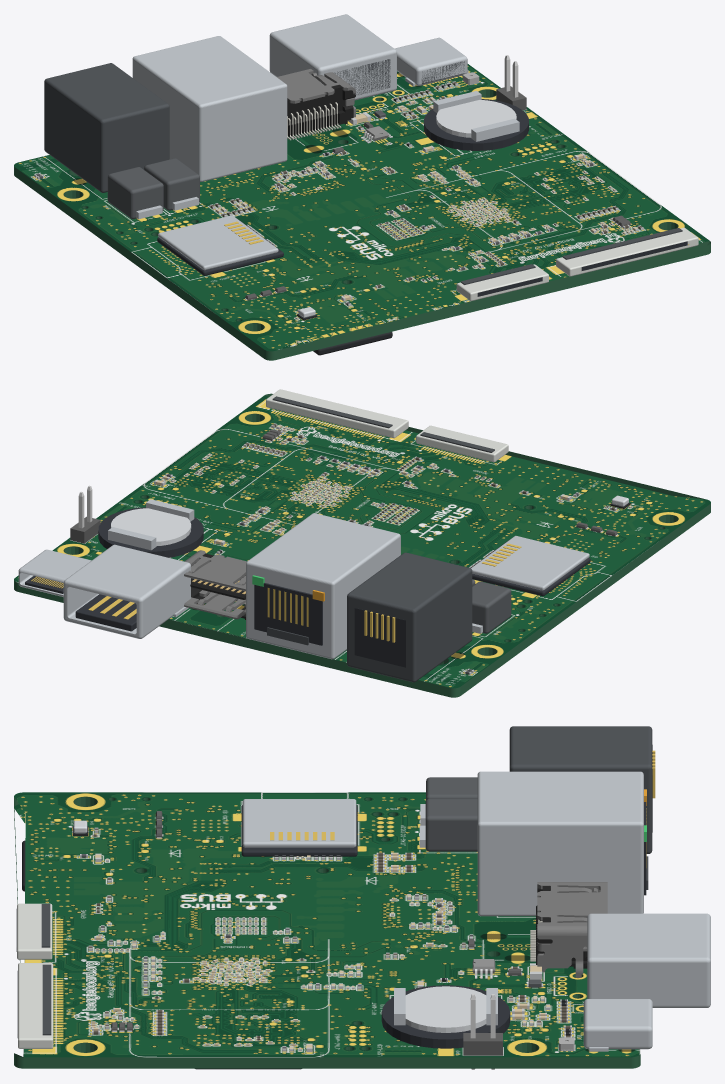
The model's file is without-user-io.glb.
3 renders of one model, top to bottom at view 1: azimuth 30°, elevation 25°; view 2: azimuth 150°, elevation 25°; view 3: azimuth 270°, elevation 25°, orthographic. The views are drawn at different scales.
Parts seen in each view (by area): view 1: Box0, J24, J2, J13, J10, J1, J4, J8, J14, L2, J17, L1 (+2 smaller); view 2: Box0, J24, J2, J13, J1, J10, J4, J8, J14, J17, L2, J16; view 3: Box0, J24, J13, J2, J1, J10, J4, J14, J8, L1, J17, J16 (+1 smaller).
Part boxes in pixels (x1,y1,x2,y2): Box0: [14, 64, 710, 360]; J24: [132, 36, 287, 181]; J2: [44, 63, 169, 192]; J13: [269, 14, 396, 100]; J10: [424, 91, 528, 150]; J1: [157, 215, 283, 275]; J4: [277, 69, 355, 140]; J8: [556, 227, 698, 276]; J14: [394, 37, 468, 86]; L2: [107, 167, 163, 219]; J17: [456, 264, 548, 301]; L1: [144, 158, 199, 210]; Box0: [14, 393, 710, 697]; J24: [246, 513, 400, 659]; J2: [347, 552, 472, 682]; J13: [63, 544, 190, 638]; J1: [470, 535, 590, 596]; J10: [98, 499, 203, 557]; J4: [184, 550, 246, 619]; J8: [266, 389, 408, 438]; J14: [18, 549, 91, 596]; J17: [416, 425, 508, 462]; L2: [472, 581, 511, 633]; J16: [70, 485, 100, 543]; Box0: [14, 792, 640, 1068]; J24: [477, 771, 648, 916]; J13: [587, 913, 710, 1007]; J2: [509, 726, 655, 853]; J1: [241, 799, 357, 856]; J10: [381, 985, 510, 1048]; J4: [530, 882, 607, 977]; J14: [583, 999, 652, 1051]; J8: [17, 963, 53, 1048]; L1: [419, 799, 477, 851]; J17: [16, 903, 52, 959]; J16: [463, 994, 502, 1069].
Bounding box in the file's own units: 80 × 16.7 × 88.97.
Materials: 31 (2 with a texture image).
